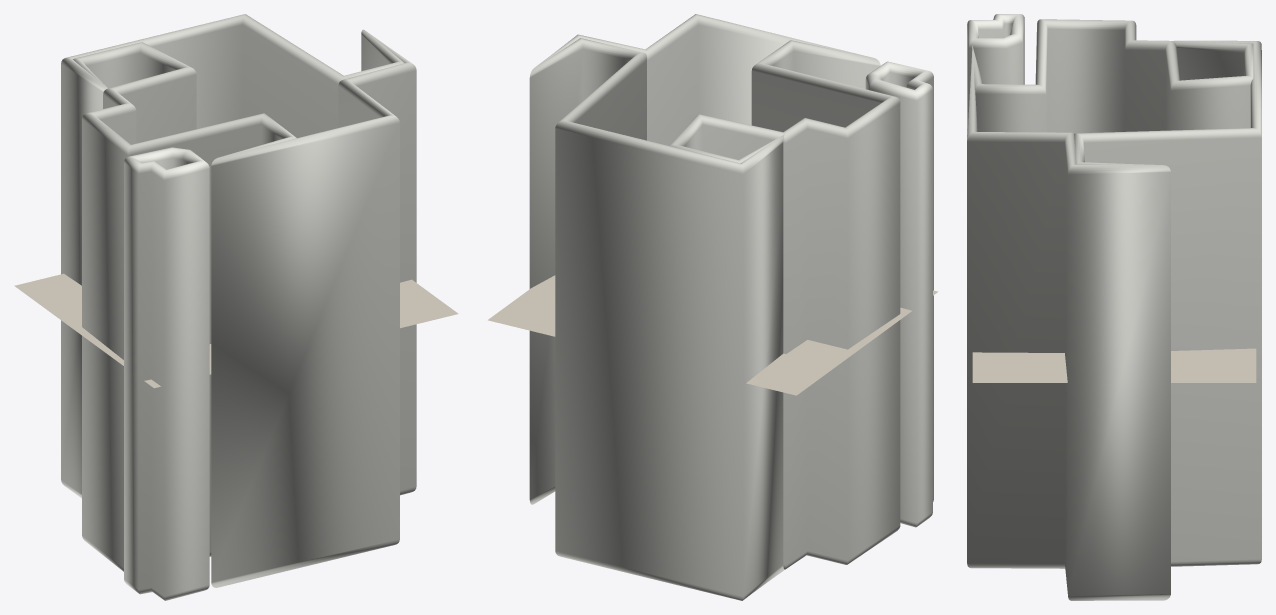
File: 0ba81f61-8241-444c-acc5-fd7d2eaf6efb_model.glb
3 renders of one model, left to right at view 1: azimuth 30°, elevation 25°; view 2: azimuth 150°, elevation 25°; view 3: azimuth 270°, elevation 25°, orthographic.
Parts seen in each view (by area): view 1: wall_1, wall_0, Floor; view 2: wall_1, wall_0, Floor; view 3: wall_1, Floor, wall_0.
Part boxes in pixels (x1,y1,x2,y2): wall_1: [61, 14, 416, 587]; wall_0: [124, 147, 209, 600]; Floor: [14, 273, 458, 388]; wall_1: [529, 14, 900, 600]; wall_0: [865, 61, 933, 527]; Floor: [488, 275, 938, 395]; wall_1: [967, 19, 1261, 600]; Floor: [972, 348, 1256, 382]; wall_0: [967, 14, 1024, 139].
Bounding box in the file's own units: 4.75 × 6.2 × 3.81.
